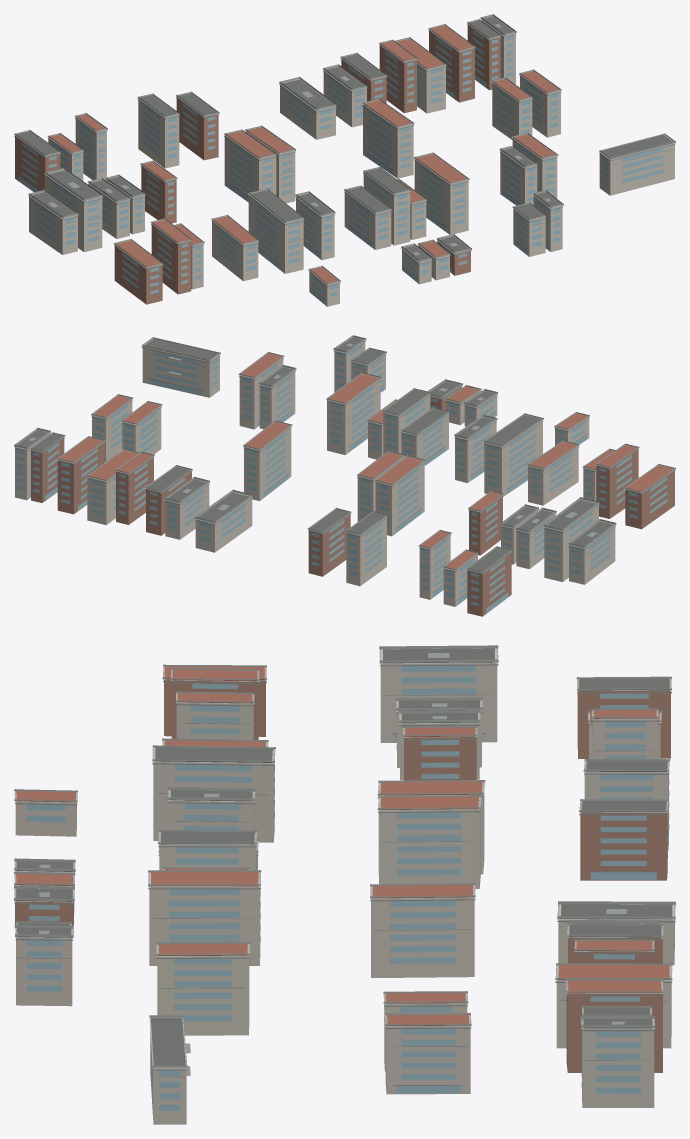
3 views of the same model, one above another, from view 1: azimuth 30°, elevation 25°; view 2: azimuth 150°, elevation 25°; view 3: azimuth 270°, elevation 25° (orthographic). The views are drawn at different scales.
Parts seen in each view (by area): view 1: building-1779-mesh-191, building-1659-mesh-86, building-1723-mesh-159, building-1720-mesh-143, building-1666-mesh-122, building-1586-mesh-5, building-1664-mesh-112, building-1585-mesh-0, building-1667-mesh-127, building-1783-mesh-207, building-1727-mesh-181, building-1590-mesh-26 (+67 smaller); view 2: building-1779-mesh-191, building-1659-mesh-86, building-1720-mesh-143, building-1723-mesh-159, building-1664-mesh-112, building-1783-mesh-207, building-1666-mesh-122, building-1586-mesh-5, building-1594-mesh-49, building-1585-mesh-0, building-1667-mesh-127, building-1727-mesh-181 (+64 smaller); view 3: building-1723-mesh-159, building-1665-mesh-117, building-1722-mesh-154, building-1720-mesh-143, building-1667-mesh-127, building-1590-mesh-26, building-1785-mesh-217, building-1659-mesh-86, building-1781-mesh-202, building-1719-mesh-137, building-1723-mesh-160, building-1783-mesh-207 (+55 smaller).
Boxes of the visible parts, left/top/right/bottom form: building-1779-mesh-191: left=599, top=143, right=674, bottom=195; building-1659-mesh-86: left=248, top=195, right=303, bottom=273; building-1723-mesh-159: left=363, top=105, right=413, bottom=178; building-1720-mesh-143: left=414, top=159, right=468, bottom=234; building-1666-mesh-122: left=138, top=99, right=179, bottom=168; building-1586-mesh-5: left=151, top=224, right=191, bottom=294; building-1664-mesh-112: left=224, top=135, right=276, bottom=202; building-1585-mesh-0: left=114, top=245, right=162, bottom=304; building-1667-mesh-127: left=176, top=97, right=218, bottom=160; building-1783-mesh-207: left=429, top=30, right=474, bottom=102; building-1727-mesh-181: left=379, top=45, right=416, bottom=113; building-1590-mesh-26: left=45, top=170, right=102, bottom=252; building-1779-mesh-191: left=142, top=347, right=219, bottom=397; building-1659-mesh-86: left=484, top=420, right=542, bottom=496; building-1720-mesh-143: left=327, top=379, right=380, bottom=454; building-1723-mesh-159: left=244, top=426, right=291, bottom=501; building-1664-mesh-112: left=375, top=461, right=424, bottom=536; building-1783-mesh-207: left=57, top=442, right=104, bottom=514; building-1666-mesh-122: left=346, top=517, right=386, bottom=586; building-1586-mesh-5: left=596, top=449, right=638, bottom=518; building-1594-mesh-49: left=467, top=552, right=511, bottom=616; building-1585-mesh-0: left=625, top=470, right=674, bottom=529; building-1667-mesh-127: left=308, top=514, right=350, bottom=576; building-1727-mesh-181: left=116, top=457, right=153, bottom=524; building-1723-mesh-159: left=371, top=885, right=474, bottom=977; building-1665-mesh-117: left=379, top=797, right=480, bottom=888; building-1722-mesh-154: left=157, top=945, right=249, bottom=1035; building-1720-mesh-143: left=149, top=873, right=260, bottom=965; building-1667-mesh-127: left=580, top=802, right=667, bottom=880; building-1590-mesh-26: left=380, top=649, right=497, bottom=742; building-1785-mesh-217: left=582, top=1019, right=654, bottom=1107; building-1659-mesh-86: left=153, top=748, right=274, bottom=842; building-1781-mesh-202: left=385, top=1016, right=470, bottom=1094; building-1719-mesh-137: left=16, top=928, right=72, bottom=1006; building-1723-mesh-160: left=390, top=900, right=455, bottom=963; building-1783-mesh-207: left=566, top=982, right=662, bottom=1072.
Size of the model in its own units: 261 by 24.3 by 177.
